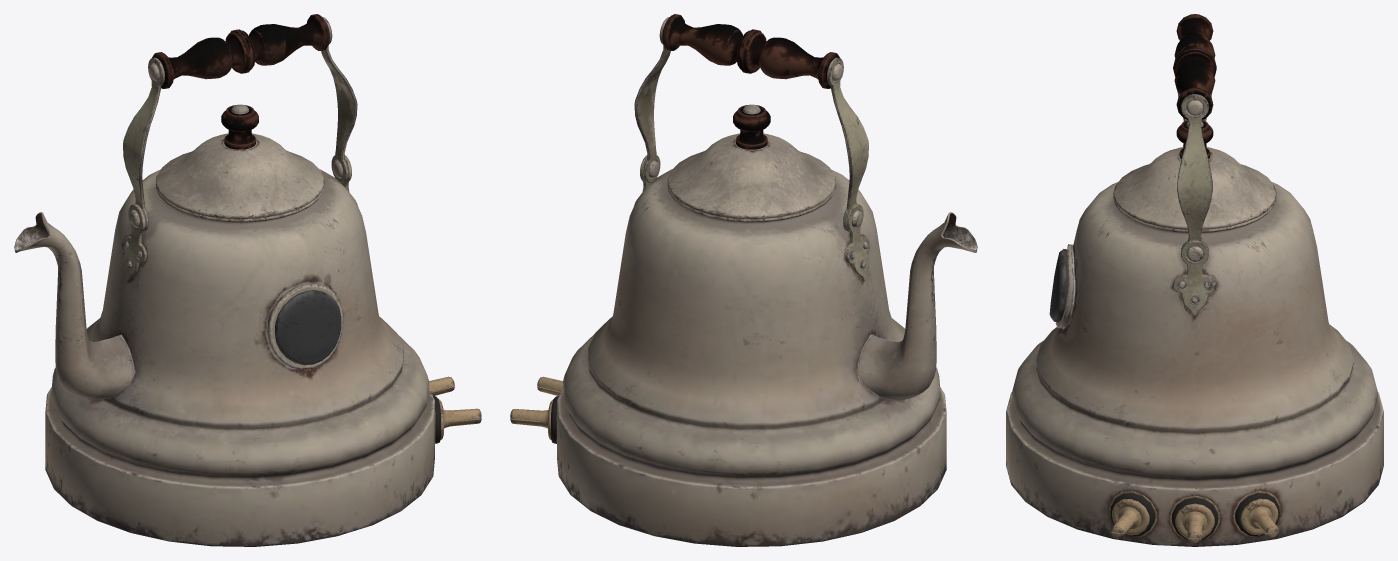
File: vintage_electric_kettle.glb
3 renders of one model, left to right at view 1: azimuth 30°, elevation 25°; view 2: azimuth 150°, elevation 25°; view 3: azimuth 270°, elevation 25°, orthographic. The views are drawn at different scales.
Parts seen in each view (by area): view 1: vintage_electric_kettle; view 2: vintage_electric_kettle; view 3: vintage_electric_kettle.
Part boxes in pixels (left/top/right/bottom): vintage_electric_kettle: left=14, top=14, right=481, bottom=546; vintage_electric_kettle: left=510, top=14, right=977, bottom=546; vintage_electric_kettle: left=1006, top=14, right=1383, bottom=546.
Size of the model in its own units: 0.3209 by 0.3048 by 0.2486.
Materials: 2 (2 with a texture image).
